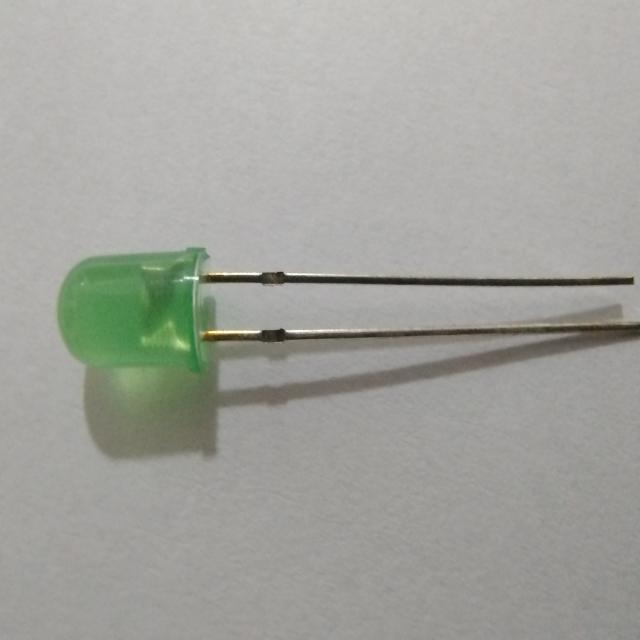green_led: (49, 234, 222, 393)
